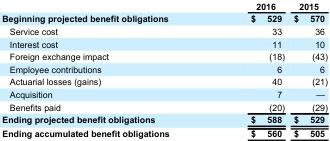table: (1, 0, 326, 138)
table column: (1, 0, 209, 138), (209, 0, 288, 138), (288, 0, 326, 138)
table column header: (1, 0, 326, 11)
table row: (1, 112, 326, 126), (1, 11, 326, 24), (1, 24, 326, 37), (1, 49, 326, 62), (1, 62, 326, 75), (1, 87, 326, 100), (1, 37, 326, 49), (1, 75, 326, 87), (1, 100, 326, 112), (1, 126, 326, 138), (1, 0, 326, 11)
